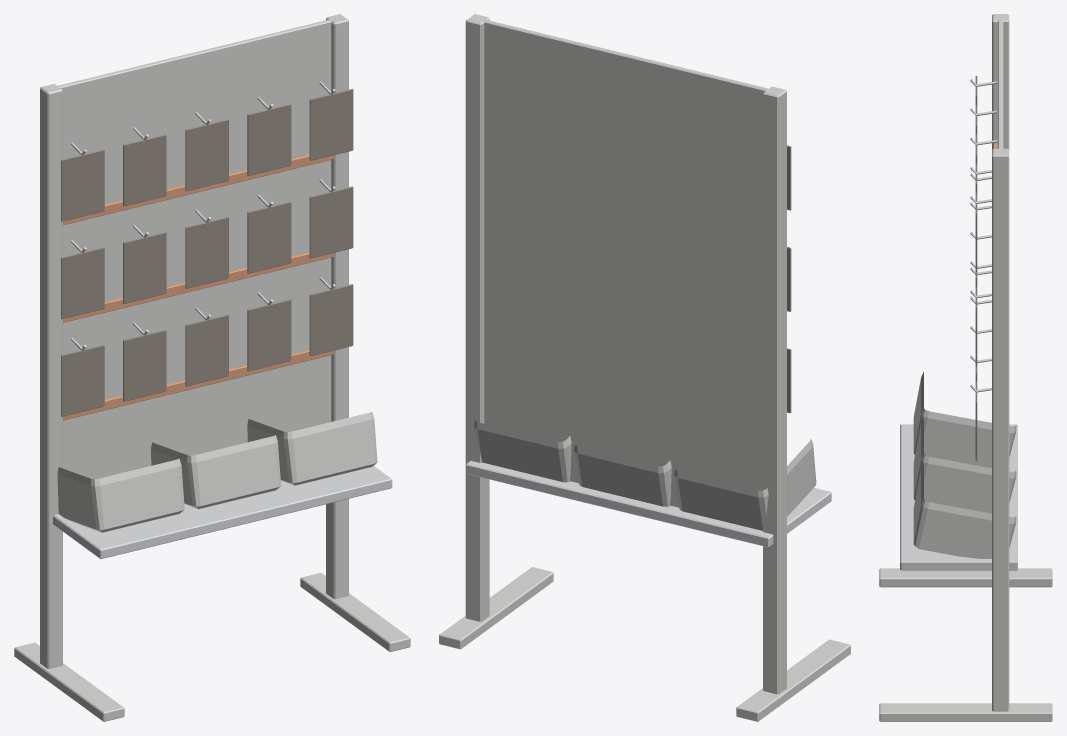
Rendered from garden-centre-and-florist-glove-and-sundries-bay-35565ab1__17744.glb.
3 renders of one model, left to right at view 1: azimuth 30°, elevation 25°; view 2: azimuth 150°, elevation 25°; view 3: azimuth 270°, elevation 25°, orthographic. The views are drawn at different scales.
Parts seen in each view (by area): view 1: glove-and-sundries-bay; view 2: glove-and-sundries-bay; view 3: glove-and-sundries-bay.
Boxes of the visible parts, <box> form: glove-and-sundries-bay: <box>14,14,410,721</box>; glove-and-sundries-bay: <box>439,14,850,721</box>; glove-and-sundries-bay: <box>879,14,1052,721</box>.
Bounding box in the file's own units: 0.99 × 1.8 × 0.4999.
